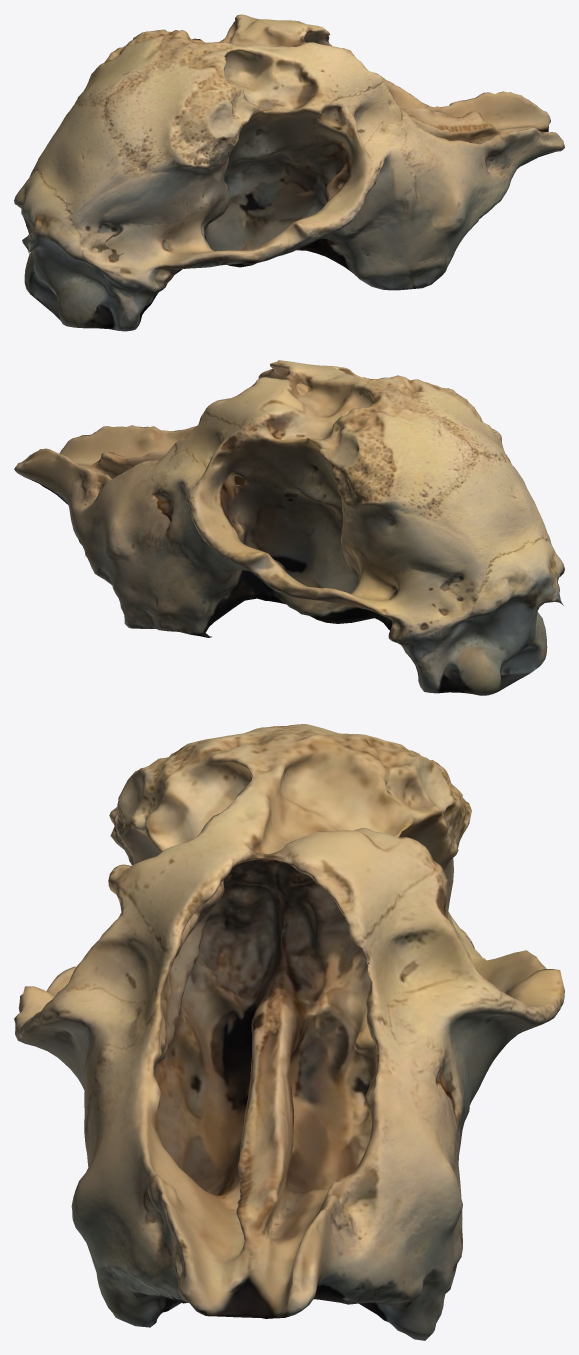
Rendered from Cráneo de oveja.glb.
3 views of the same model, one above another, from view 1: azimuth 30°, elevation 25°; view 2: azimuth 150°, elevation 25°; view 3: azimuth 270°, elevation 25° (orthographic). The views are drawn at different scales.
Visible parts, largest first — view 1: 3DModel; view 2: 3DModel; view 3: 3DModel.
Part boxes in pixels (box(x1,y1,x2,y2)): 3DModel: box(14, 14, 564, 331); 3DModel: box(14, 360, 564, 695); 3DModel: box(14, 724, 564, 1340).
Size of the model in its own units: 0.7256 by 0.3348 by 0.3882.
1 material, 1 textured.
